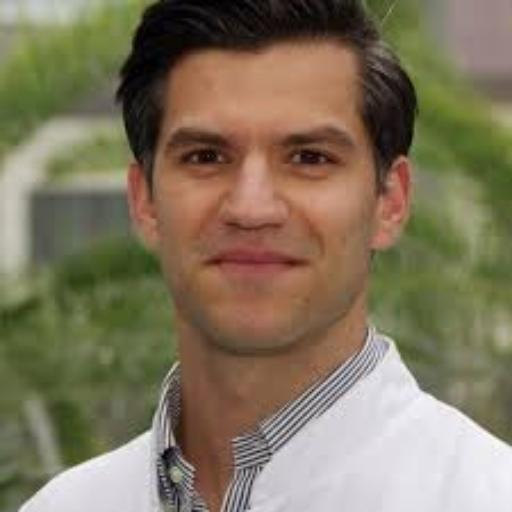left_eye: (285, 150, 343, 172)
left_lip_corner: (291, 255, 318, 275)
right_eye: (178, 148, 234, 171)
right_lip_corner: (195, 256, 222, 276)
